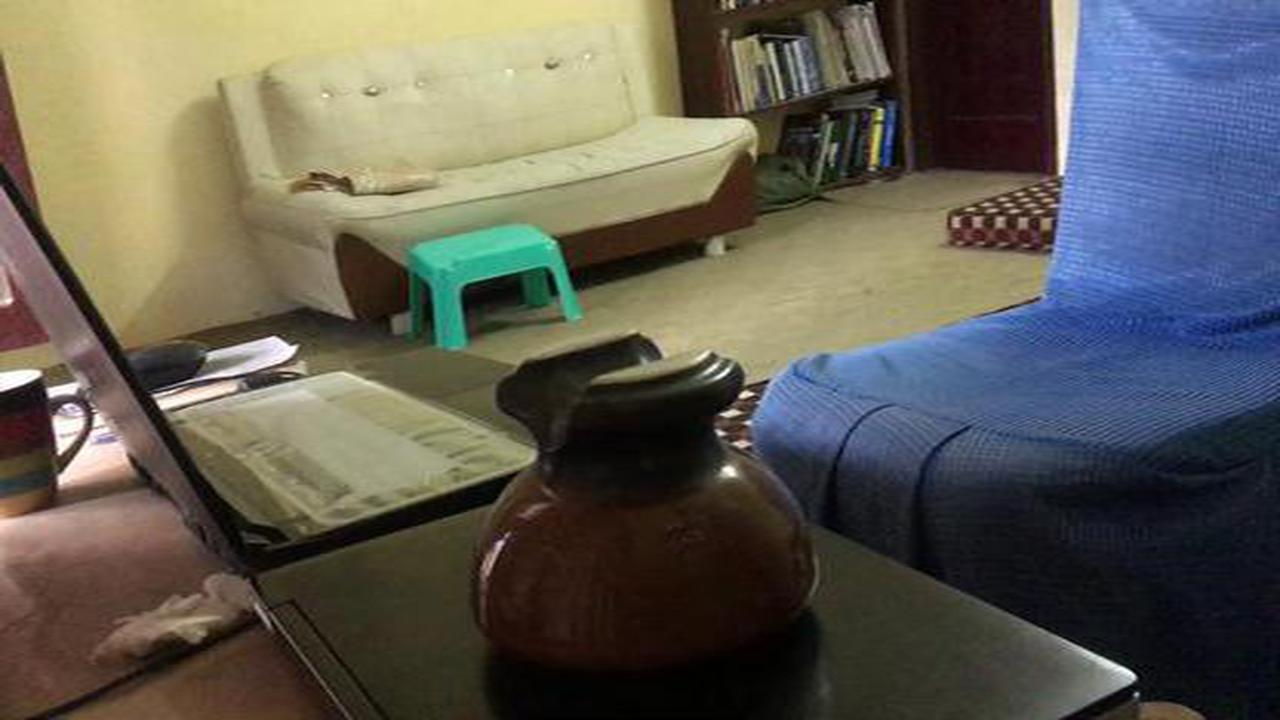insulator_pin: (450, 328, 834, 682)
